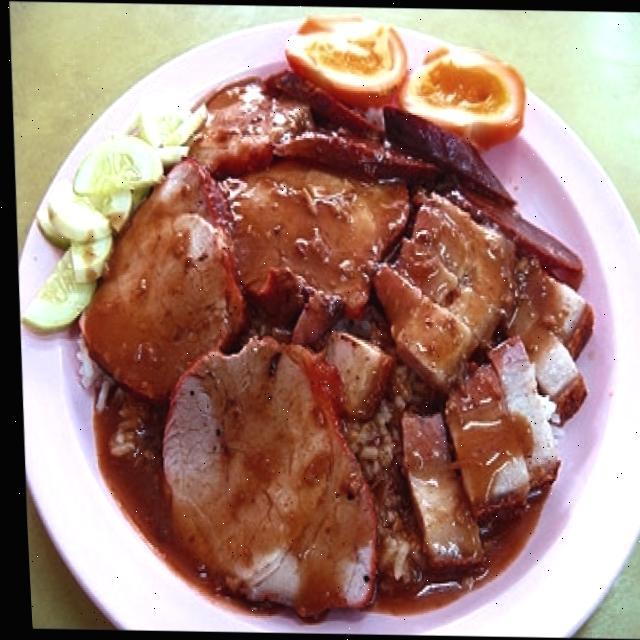猪肉菜式: (18, 22, 640, 634)
